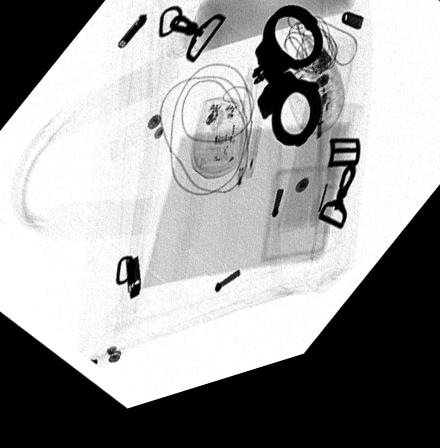HandCuffs: (251, 21, 322, 163)
